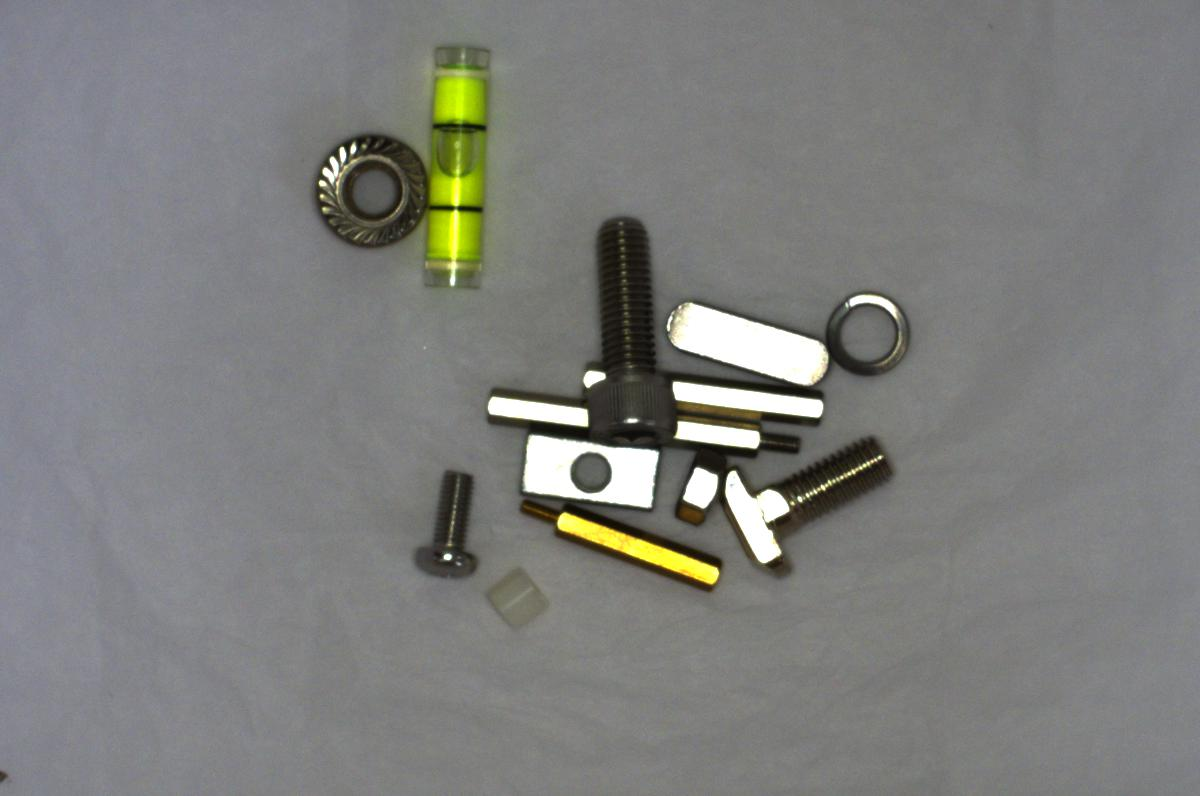Double hexagonal column: (571, 358, 832, 430)
Flange nut: (301, 124, 446, 263)
Hexagon nut: (667, 451, 726, 528)
Hexagon pillar: (519, 489, 728, 596)
Hexagon screw: (576, 205, 689, 451)
Hexagonal steel column: (466, 382, 814, 458)
Horizontal bubble: (398, 28, 515, 301)
Keybar: (655, 291, 830, 396)
Plastic cushion pillar: (479, 556, 551, 640)
Rectangular nut: (514, 431, 661, 513)
Round head screw: (405, 463, 488, 583)
Spring washer: (817, 280, 921, 386)
T-shaped screw: (708, 427, 903, 582)
